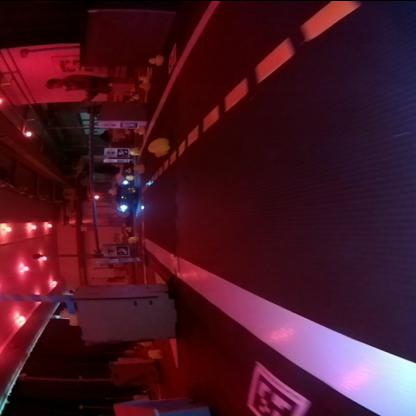Duckie: (148, 136, 169, 156), (148, 52, 162, 64), (132, 162, 144, 172)
Duckiebot: (115, 178, 137, 210)
Intersection sign: (104, 246, 116, 254)
QR code: (247, 362, 308, 414), (168, 42, 177, 72), (116, 244, 128, 254), (120, 120, 138, 126), (117, 148, 127, 156), (119, 256, 136, 260), (116, 157, 128, 161)
Signal sign: (102, 120, 116, 126)
Traffic light: (88, 193, 100, 199)
